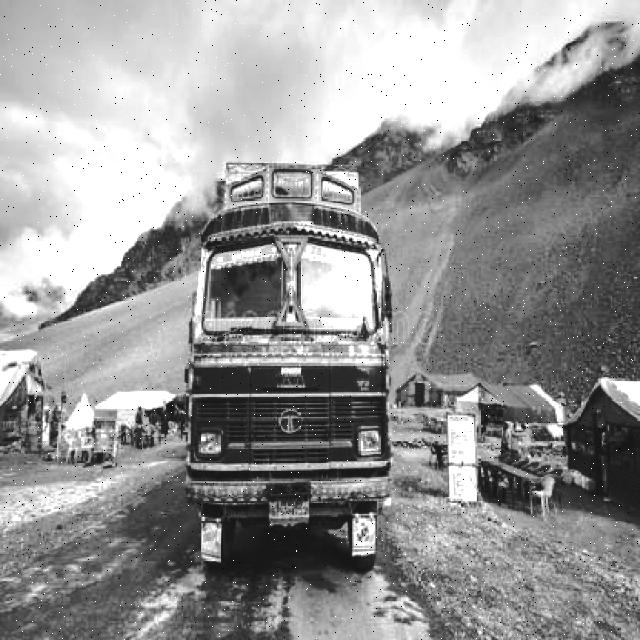HCV: (160, 183, 385, 558)
